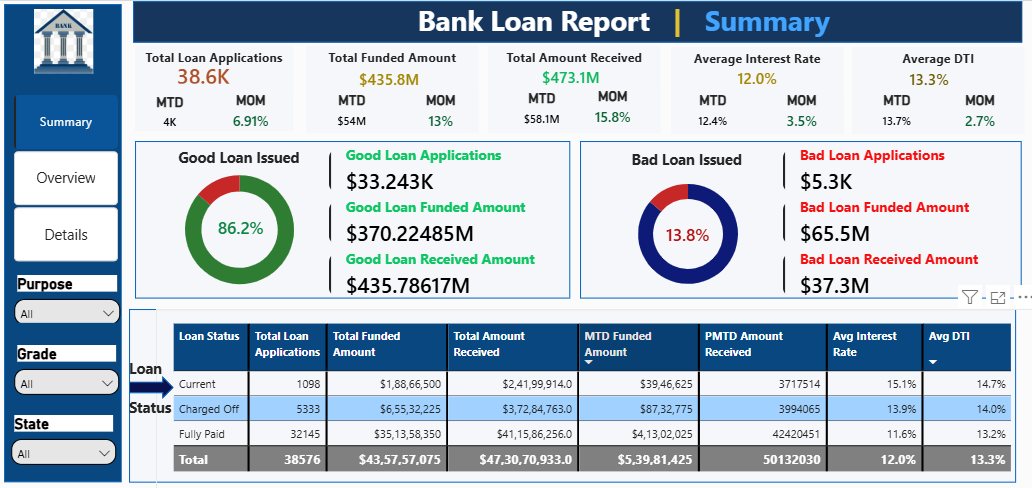

The page's visual inventory and layout, read from the dashboard file:
{"tool":"powerbi","page":{"name":"Summary","canvas":[1000,470],"ordinal":0},"visuals":[{"type":"textbox","box":[131,43,152,82],"z":0,"group":"g1"},{"type":"textbox","box":[295,43,166,84],"z":0,"group":"g3"},{"type":"textbox","box":[470,43,166,84],"z":0,"group":"g2"},{"type":"textbox","box":[646,44,166,84],"z":0,"group":"g4"},{"type":"textbox","box":[820,44,166,84],"z":0,"group":"g5"},{"type":"shape","box":[125,296,853,167],"z":0},{"type":"cardVisual","fields":{"Data":["Bank_Loan_Data.Total_Loan_Applications"]},"box":[150.9,60.9,91.2,18.9],"z":1000,"group":"g1"},{"type":"shape","box":[130.9,135.1,418.6,151.5],"z":1000},{"type":"donutChart","fields":{"Category":["Bank_Loan_Data.Good Vs Bad Loan"],"Y":["Bank_Loan_Data.Total_Loan_Applications"]},"box":[142.3,140.2,178,161],"z":2000},{"type":"shape","box":[129.1,0,855.5,40],"z":3000},{"type":"shape","box":[5.2,3.1,113.4,459.8],"z":4000},{"type":"textbox","box":[382,0,438,39],"z":5000},{"type":"group","id":"g1","title":"Group 1","box":[131,43,152,82],"z":6000},{"type":"group","id":"g2","title":"Group 1","box":[470,43,166,84],"z":7000},{"type":"shape","box":[558.8,135.1,424.7,151.5],"z":8000},{"type":"cardVisual","fields":{"Data":["Bank_Loan_Data.Good Loan Applications","Bank_Loan_Data.Good Loan Funded Amount","Bank_Loan_Data.Good Loan Received Amount"]},"box":[317.5,142.3,230,143],"z":9000},{"type":"donutChart","fields":{"Category":["Bank_Loan_Data.Good Vs Bad Loan"],"Y":["Bank_Loan_Data.Total_Loan_Applications"]},"box":[587,150,152,150],"z":10000},{"type":"textbox","box":[148.5,140.2,165,23],"z":11000},{"type":"cardVisual","fields":{"Data":["Bank_Loan_Data.Bad Loan Applications","Bank_Loan_Data.Bad Loan Funded Amount","Bank_Loan_Data.Bad Loan Received Amount"]},"box":[753.6,142.3,231,143],"z":12000},{"type":"textbox","box":[565,142,161,23],"z":13000},{"type":"tableEx","fields":{"Values":["Bank_Loan_Data.loan_status","Bank_Loan_Data.Total_Loan_Applications","Bank_Loan_Data.Total Funded Amount","Bank_Loan_Data.Total Amount Received","Bank_Loan_Data.MTD Funded Amount","Bank_Loan_Data.PMTD Amount Received","Bank_Loan_Data.Avg Interest Rate","Bank_Loan_Data.Avg DTI"]},"box":[150.5,295.9,849.5,174.2],"z":14000},{"type":"cardVisual","title":"MOM","fields":{"Data":["Bank_Loan_Data.MOM Funded Amount"]},"box":[371,88,72,35],"z":15000},{"type":"cardVisual","title":"MTD","fields":{"Data":["Bank_Loan_Data.MTD Amount Received"]},"box":[479,87,86,35],"z":16000},{"type":"cardVisual","fields":{"Data":["Bank_Loan_Data.Total Funded Amount"]},"box":[325,62,95,24],"z":17000},{"type":"cardVisual","title":"MOM","fields":{"Data":["Bank_Loan_Data.MOM Amount Received"]},"box":[547,85,86,35],"z":18000},{"type":"group","id":"g3","title":"Group 1","box":[295,43,166,84],"z":19000},{"type":"group","id":"g4","title":"Group 1","box":[646,44,166,84],"z":20000},{"type":"group","id":"g5","title":"Group 1","box":[820,44,166,84],"z":21000},{"type":"cardVisual","title":"MTD","fields":{"Data":["Bank_Loan_Data.MTD Funded Amount"]},"box":[296,88,86,35],"z":22000},{"type":"cardVisual","title":"MTD","fields":{"Data":["Bank_Loan_Data.MTD Average Rate"]},"box":[643,88,86,35],"z":23000},{"type":"cardVisual","title":"MTD","fields":{"Data":["Bank_Loan_Data.MTD DTI"]},"box":[820,88,86,35],"z":24000},{"type":"cardVisual","title":"MOM","fields":{"Data":["Bank_Loan_Data.MOM Avg Int Rate"]},"box":[729,88,86,35],"z":25000},{"type":"cardVisual","title":"MOM","fields":{"Data":["Bank_Loan_Data.MOM Funded Amount"]},"box":[382,88,86,35],"z":26000},{"type":"cardVisual","title":"MOM","fields":{"Data":["Bank_Loan_Data.MOM DTI"]},"box":[906,88,75,35],"z":27000},{"type":"cardVisual","fields":{"Data":["Bank_Loan_Data.Total Funded Amount"]},"box":[320,61,110,25],"z":27009,"group":"g3"},{"type":"cardVisual","fields":{"Data":["Bank_Loan_Data.Avg DTI"]},"box":[839,62,110,25],"z":28000},{"type":"cardVisual","fields":{"Data":["Bank_Loan_Data.Avg Interest Rate"]},"box":[674,61,110,25],"z":29000},{"type":"cardVisual","fields":{"Data":["Bank_Loan_Data.Total Amount Received"]},"box":[490,60,119,25],"z":30000},{"type":"slicer","fields":{"Values":["Bank_Loan_Data.address_state"]},"box":[7,398,111,48],"z":31000},{"type":"slicer","fields":{"Values":["Bank_Loan_Data.purpose"]},"box":[9.3,263.9,112,46],"z":32000},{"type":"slicer","fields":{"Values":["Bank_Loan_Data.grade"]},"box":[9.3,330.9,111,48],"z":33000},{"type":"cardVisual","title":"MTD","fields":{"Data":["Bank_Loan_Data.Good Loan %"]},"box":[189.7,200,86,35],"z":34000},{"type":"cardVisual","title":"MTD","fields":{"Data":["Bank_Loan_Data.Bad Loan %"]},"box":[619,207,86,35],"z":35000},{"type":"textbox","box":[125,343,62,79],"z":36000},{"type":"shape","box":[125,361,43,22],"z":37000},{"type":"cardVisual","title":"MTD","fields":{"Data":["Bank_Loan_Data.MTD_Loan_Applications"]},"box":[132,90,65,32],"z":38000},{"type":"cardVisual","title":"MOM","fields":{"Data":["Bank_Loan_Data.MOM Loan Applications"]},"box":[199,88,86,35],"z":39000},{"type":"image","box":[34,8,57,62],"z":40000},{"type":"pageNavigator","box":[14.4,90.7,100,160.8],"z":41000}]}

Visuals, with their boxes in screenshot pixels (x1, y1, x2, y2), scaled from the page's 1000x470 canvas onto the 1032x488 screenshot:
textbox: rect(135, 45, 292, 130)
textbox: rect(304, 45, 476, 132)
textbox: rect(485, 45, 656, 132)
textbox: rect(667, 46, 838, 133)
textbox: rect(846, 46, 1018, 133)
shape: rect(129, 307, 1009, 481)
cardVisual - Bank_Loan_Data.Total_Loan_Applications: rect(156, 63, 250, 83)
shape: rect(135, 140, 567, 298)
donutChart - Bank_Loan_Data.Good Vs Bad Loan x Bank_Loan_Data.Total_Loan_Applications: rect(147, 146, 331, 313)
shape: rect(133, 0, 1016, 42)
shape: rect(5, 3, 122, 481)
textbox: rect(394, 0, 846, 40)
"Group 1" group: rect(135, 45, 292, 130)
"Group 1" group: rect(485, 45, 656, 132)
shape: rect(577, 140, 1015, 298)
cardVisual - Bank_Loan_Data.Good Loan Applications x Bank_Loan_Data.Good Loan Funded Amount: rect(328, 148, 565, 296)
donutChart - Bank_Loan_Data.Good Vs Bad Loan x Bank_Loan_Data.Total_Loan_Applications: rect(606, 156, 763, 311)
textbox: rect(153, 146, 324, 169)
cardVisual - Bank_Loan_Data.Bad Loan Applications x Bank_Loan_Data.Bad Loan Funded Amount: rect(778, 148, 1016, 296)
textbox: rect(583, 147, 749, 171)
tableEx - Bank_Loan_Data.loan_status x Bank_Loan_Data.Total_Loan_Applications: rect(155, 307, 1031, 487)
"MOM" cardVisual: rect(383, 91, 457, 128)
"MTD" cardVisual: rect(494, 90, 583, 127)
cardVisual - Bank_Loan_Data.Total Funded Amount: rect(335, 64, 433, 89)
"MOM" cardVisual: rect(565, 88, 653, 125)
"Group 1" group: rect(304, 45, 476, 132)
"Group 1" group: rect(667, 46, 838, 133)
"Group 1" group: rect(846, 46, 1018, 133)
"MTD" cardVisual: rect(305, 91, 394, 128)
"MTD" cardVisual: rect(664, 91, 752, 128)
"MTD" cardVisual: rect(846, 91, 935, 128)
"MOM" cardVisual: rect(752, 91, 841, 128)
"MOM" cardVisual: rect(394, 91, 483, 128)
"MOM" cardVisual: rect(935, 91, 1012, 128)
cardVisual - Bank_Loan_Data.Total Funded Amount: rect(330, 63, 444, 89)
cardVisual - Bank_Loan_Data.Avg DTI: rect(866, 64, 979, 90)
cardVisual - Bank_Loan_Data.Avg Interest Rate: rect(696, 63, 809, 89)
cardVisual - Bank_Loan_Data.Total Amount Received: rect(506, 62, 628, 88)
slicer - Bank_Loan_Data.address_state: rect(7, 413, 122, 463)
slicer - Bank_Loan_Data.purpose: rect(10, 274, 125, 322)
slicer - Bank_Loan_Data.grade: rect(10, 344, 124, 393)
"MTD" cardVisual: rect(196, 208, 285, 244)
"MTD" cardVisual: rect(639, 215, 728, 251)
textbox: rect(129, 356, 193, 438)
shape: rect(129, 375, 173, 398)
"MTD" cardVisual: rect(136, 93, 203, 127)
"MOM" cardVisual: rect(205, 91, 294, 128)
image: rect(35, 8, 94, 73)
pageNavigator: rect(15, 94, 118, 261)
